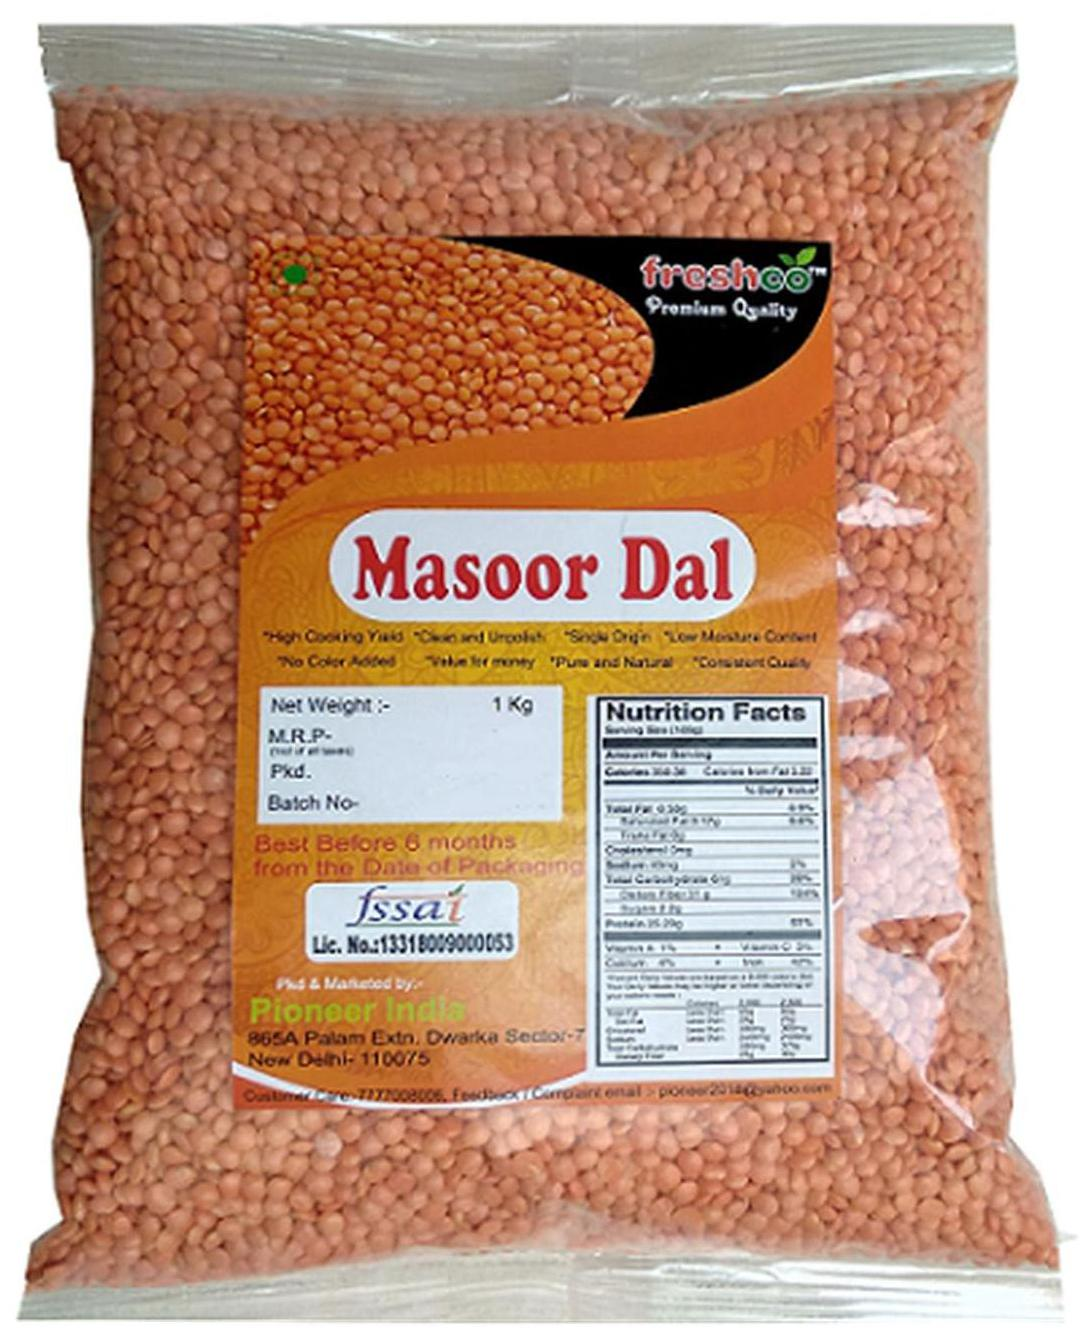fssai: (343, 881, 471, 930)
